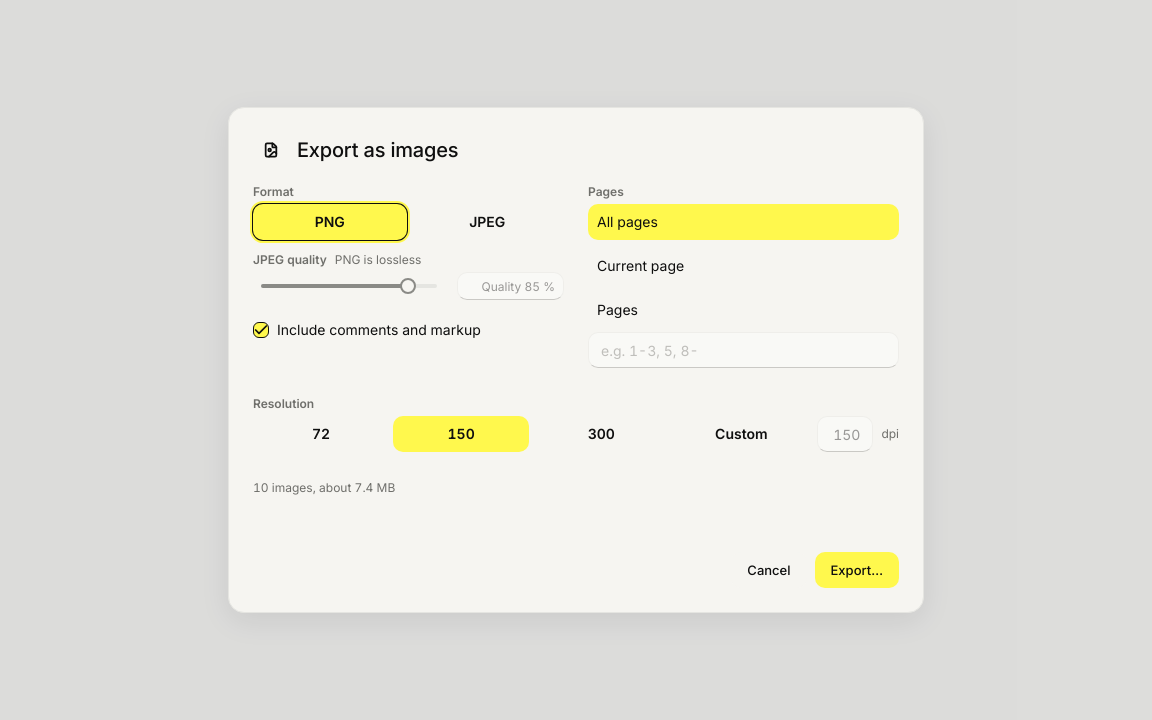
Test: the dialog › steps the custom dpi with the arrows, ten at a time with Shift
Expected: the dialog is shown, [228,107,924,613]
Step 1. Click the radio button labelled "Custom" → [741, 434], box [673,416,809,452]
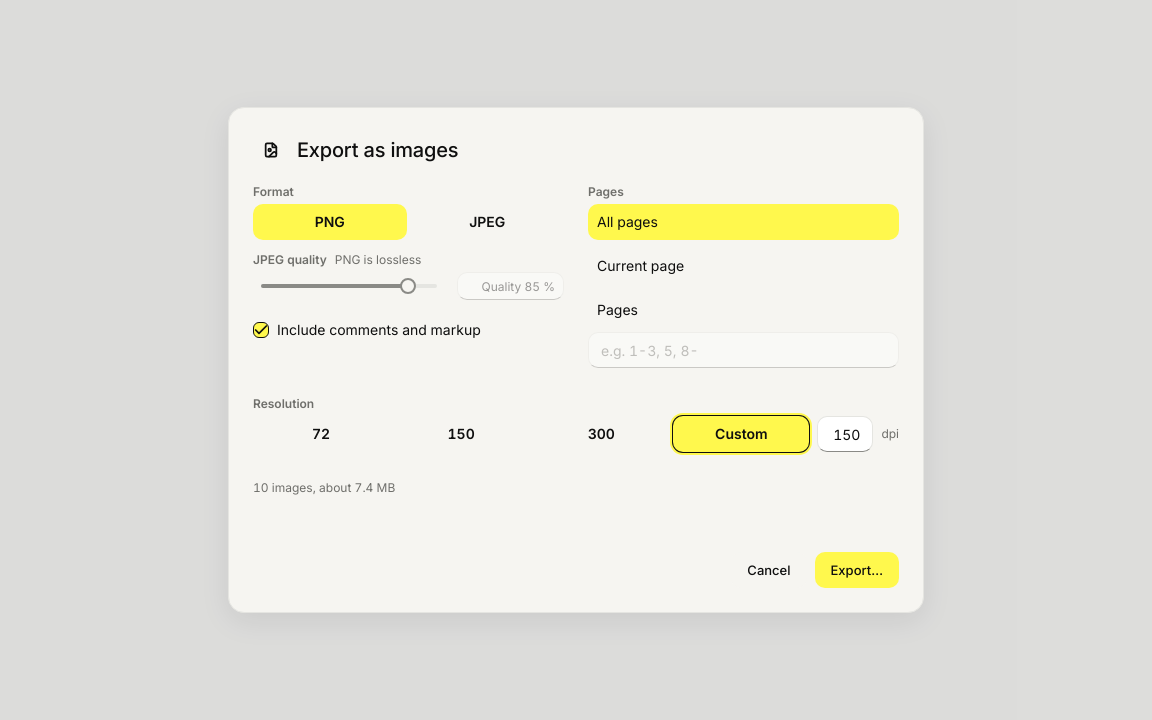
Step 2. Click the field named "Custom resolution in dpi" → [845, 434], box [817,416,873,452]
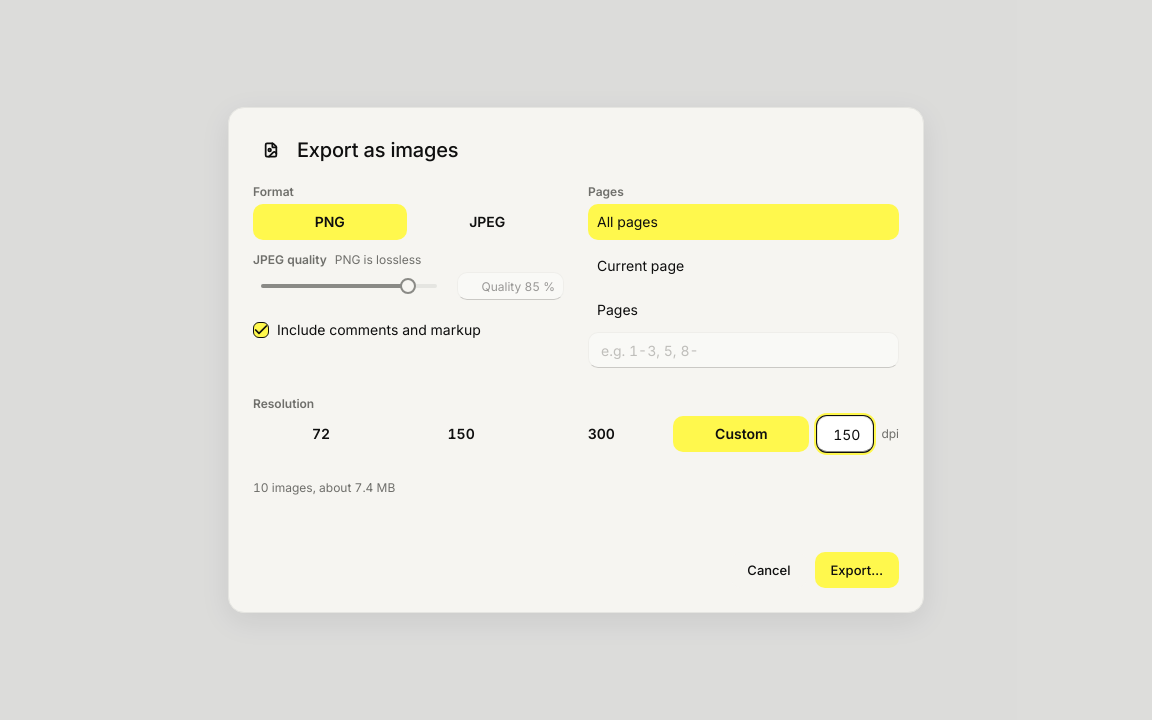
Step 3. Press Arrowup
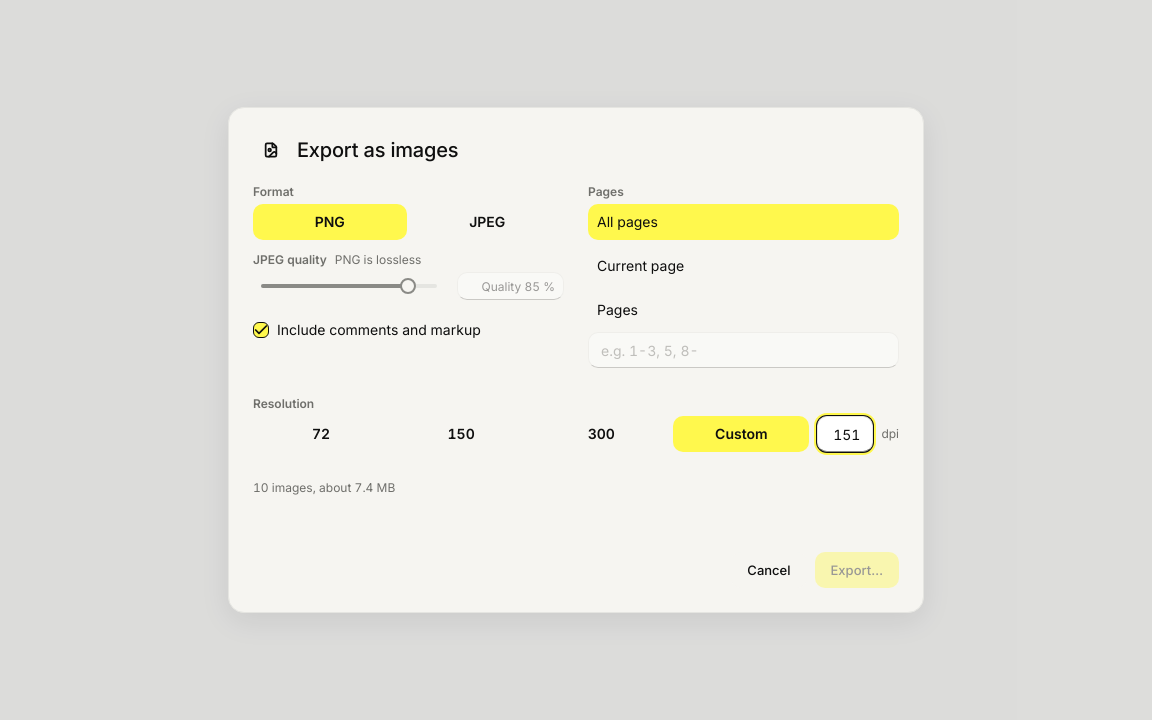
Now the field named "Custom resolution in dpi" holds "151", box [817,416,873,452]
Step 4. Type keys "{Shift>}{ArrowUp}{/Shift}"
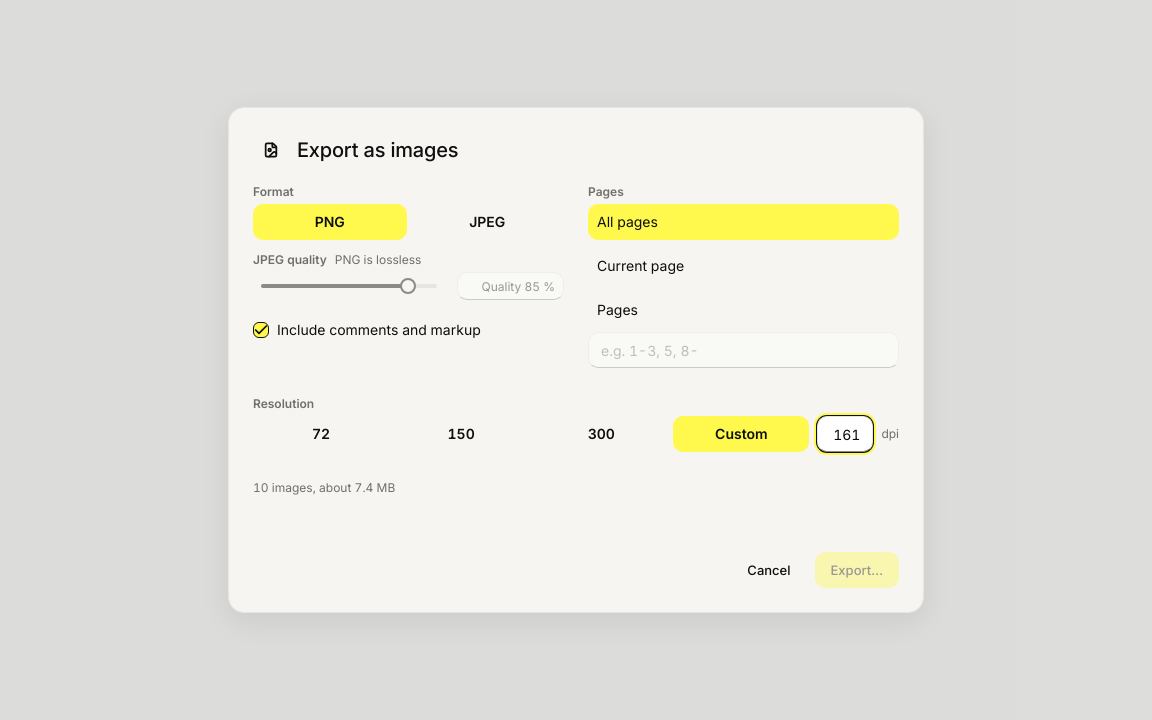
Now the field named "Custom resolution in dpi" holds "161", box [817,416,873,452]
Step 5. Type keys "{Shift>}{ArrowDown}{/Shift}{ArrowDown}"
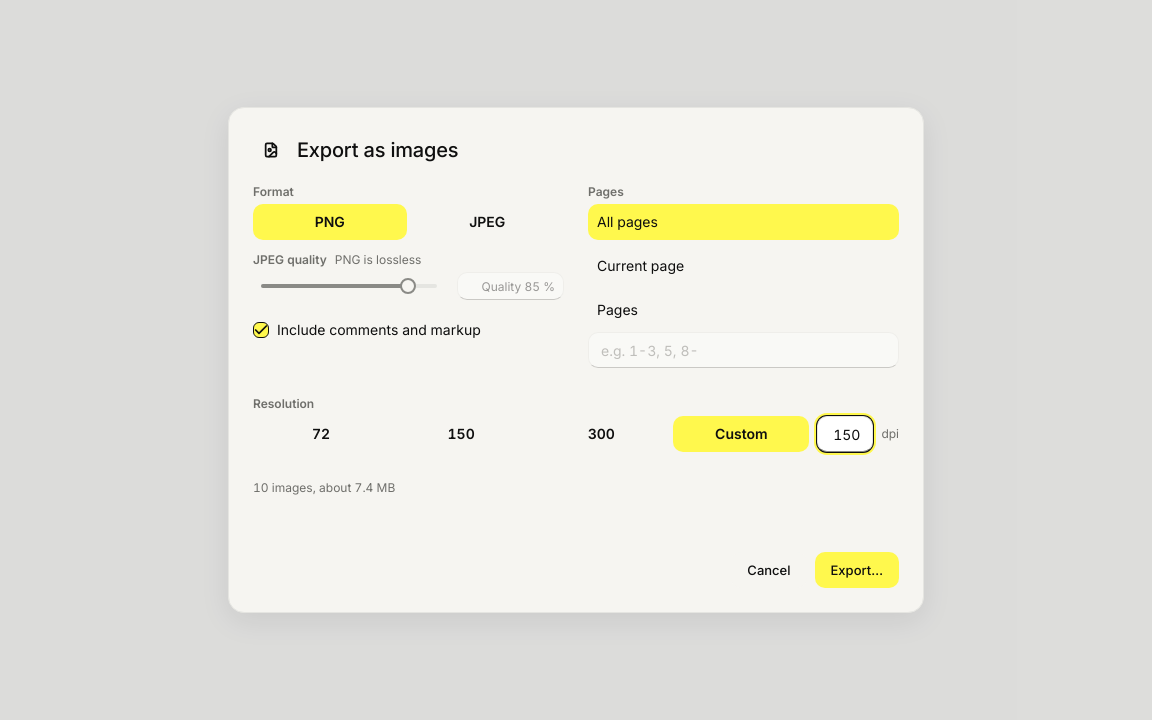
Now the field named "Custom resolution in dpi" holds "150", box [817,416,873,452]
